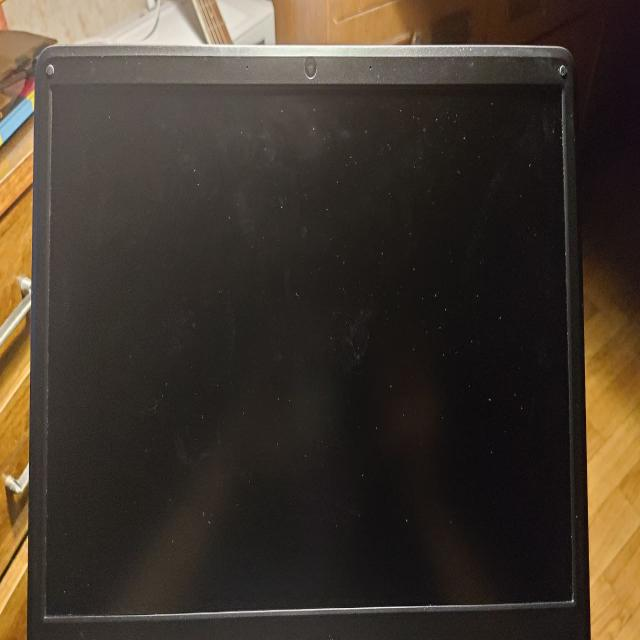scratch: (40, 53, 58, 88), (556, 54, 570, 84)
